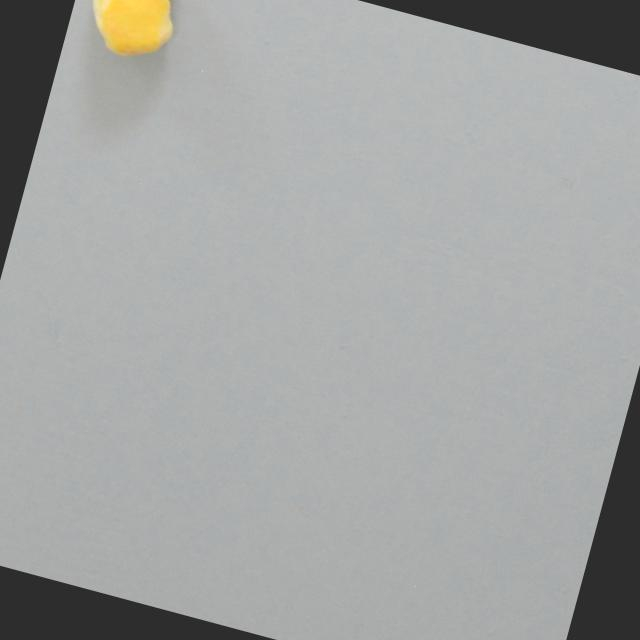dañado: (66, 0, 190, 74)
